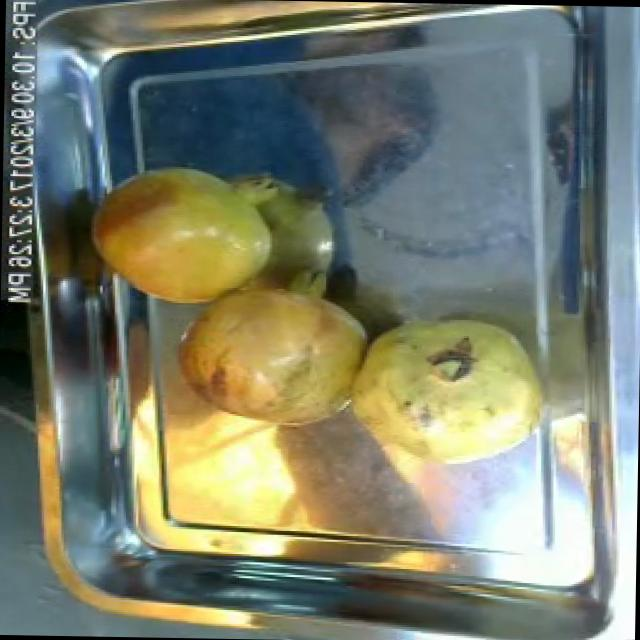fruit: (160, 259, 380, 437), (335, 304, 554, 476), (82, 156, 286, 315)
